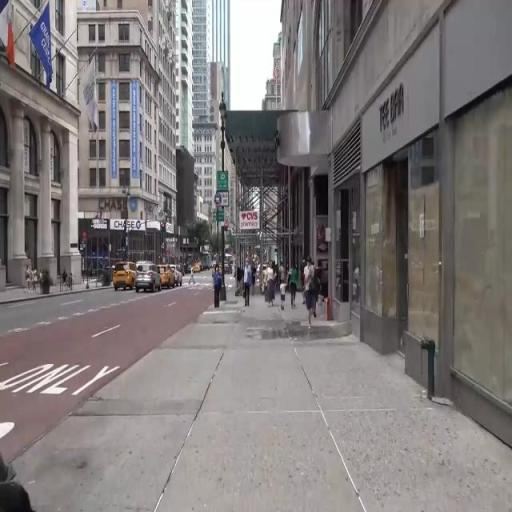person: (305, 248, 318, 330), (265, 262, 276, 311), (243, 260, 253, 309), (289, 264, 299, 309), (214, 265, 222, 307), (280, 280, 288, 310), (24, 264, 31, 297), (32, 267, 37, 293), (191, 264, 196, 287)
